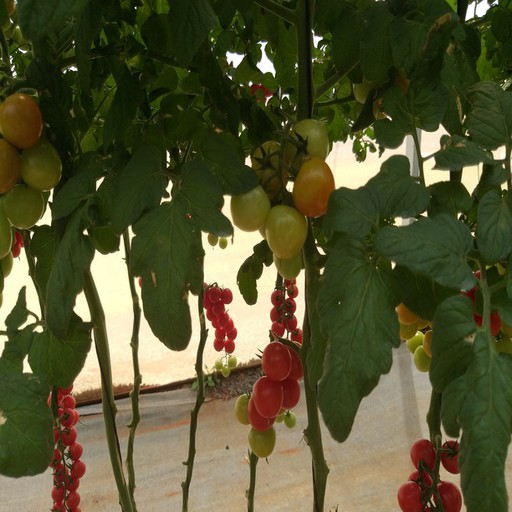green tomato bunch: (227, 115, 332, 280), (1, 92, 62, 323), (391, 305, 448, 369)
mixed tomato bunch: (352, 69, 413, 118)
red tomato bunch: (42, 378, 85, 511), (248, 341, 305, 431), (396, 439, 464, 512), (464, 264, 504, 334), (202, 286, 237, 353), (273, 282, 309, 346)
